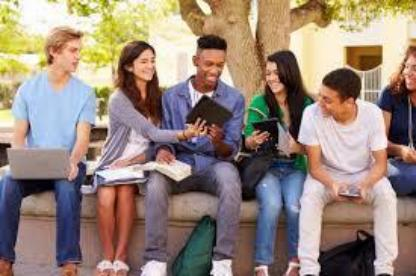person: (149, 29, 244, 276), (2, 22, 94, 276), (296, 63, 399, 276), (239, 42, 311, 276), (96, 37, 165, 276)
